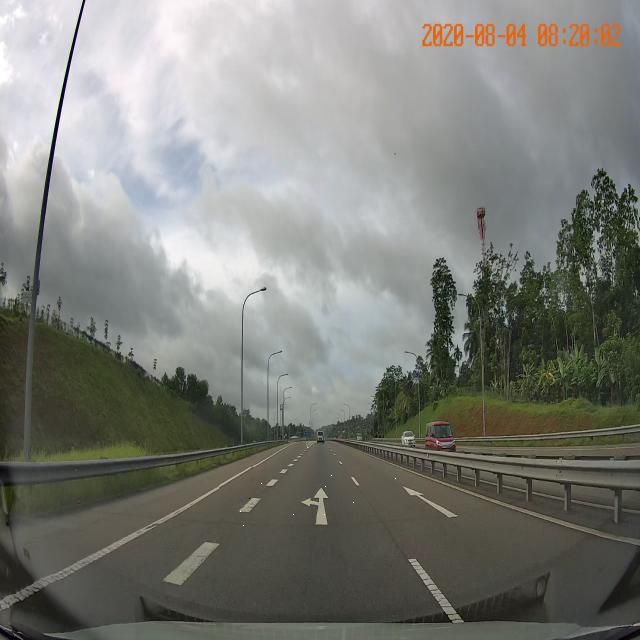forward_lft: (220, 468, 398, 539)
